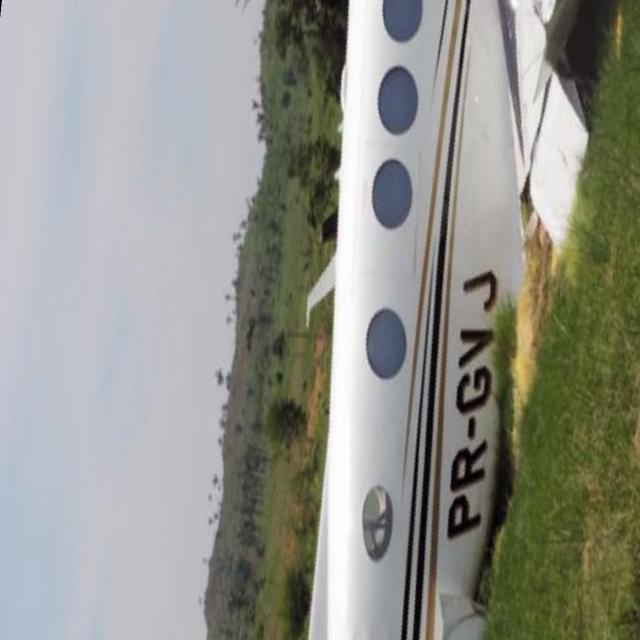crack: (427, 1, 448, 121)
